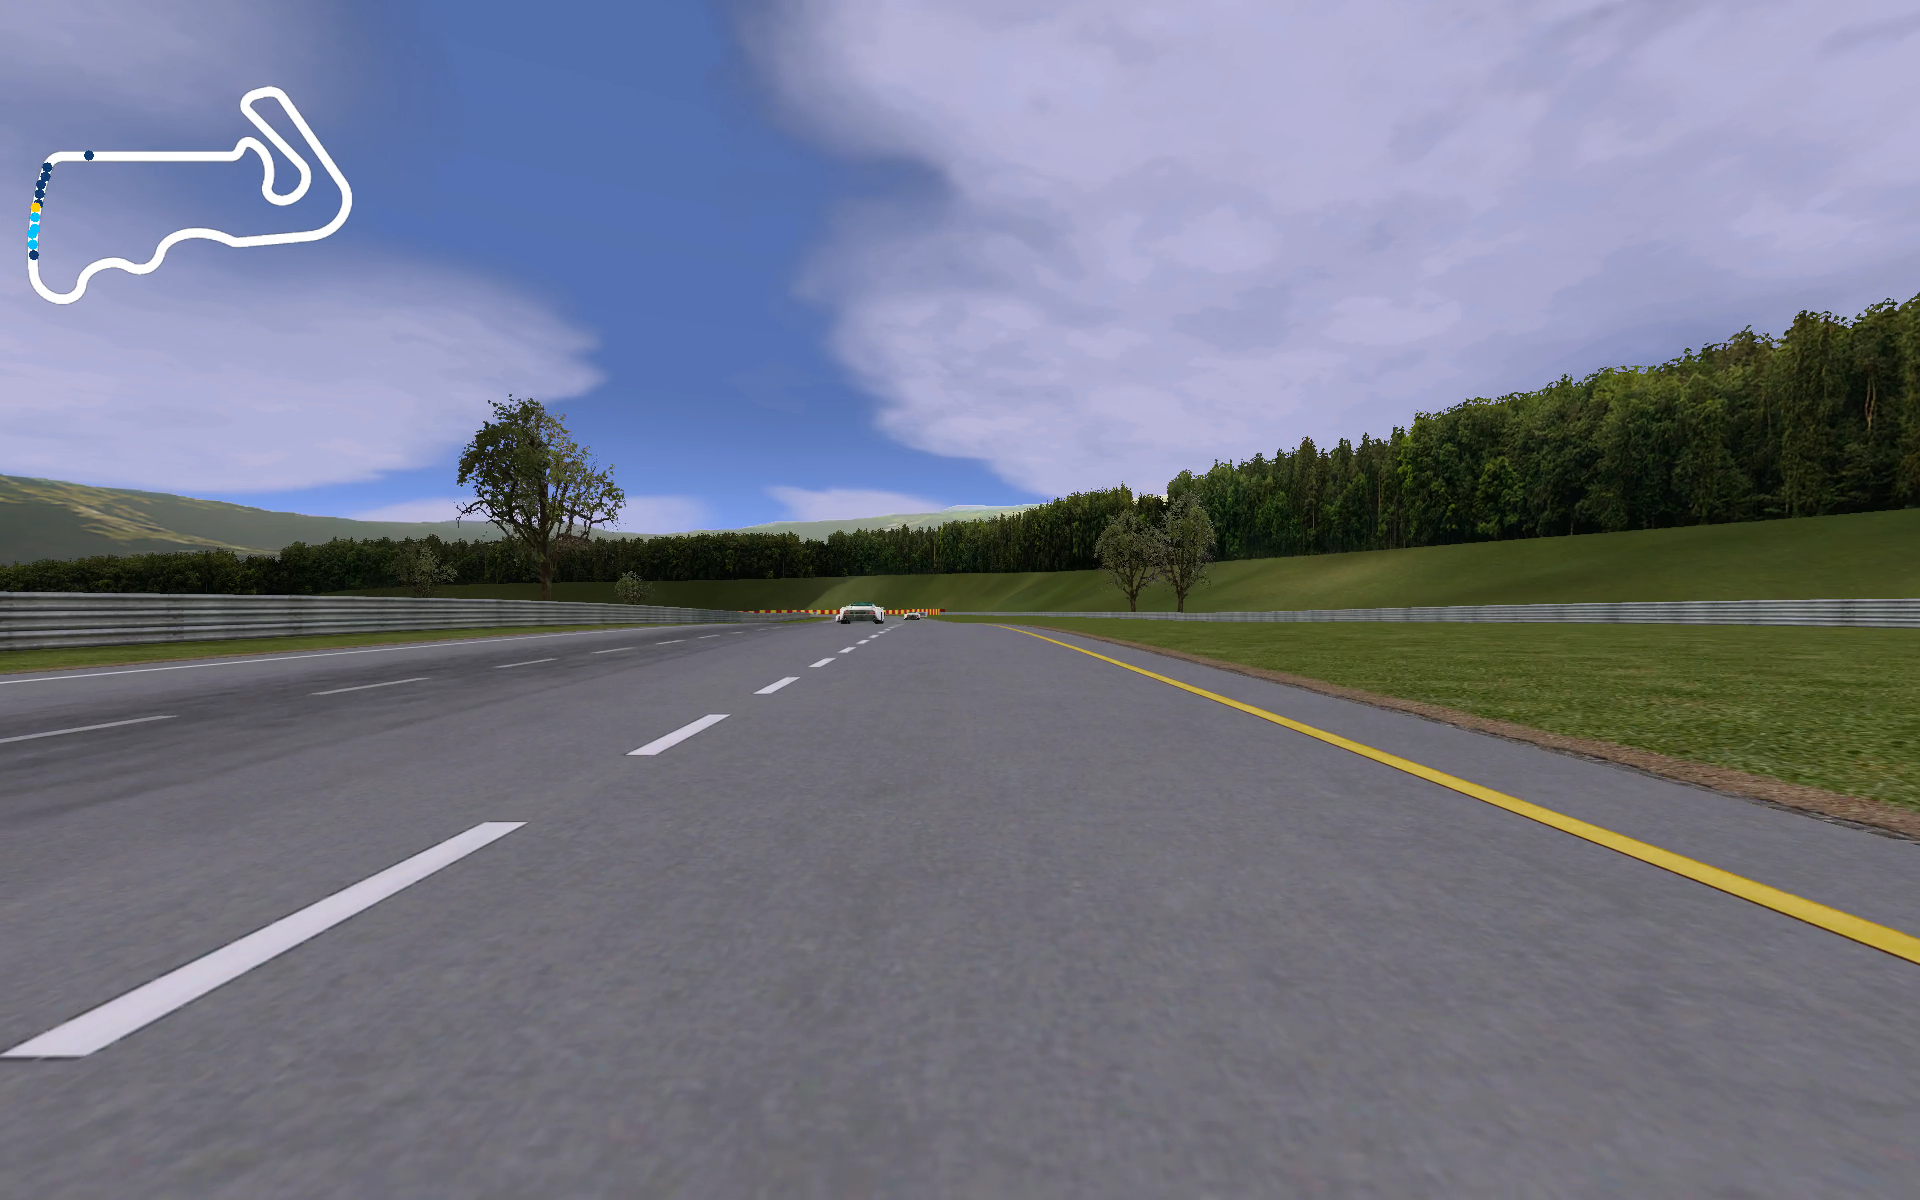car: (838, 600, 887, 625)
